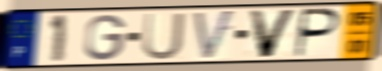1: (46, 13, 68, 65)
G: (82, 13, 128, 62)
P: (292, 7, 343, 60)
U: (141, 11, 187, 62)
V: (246, 8, 299, 60), (191, 8, 237, 63)
